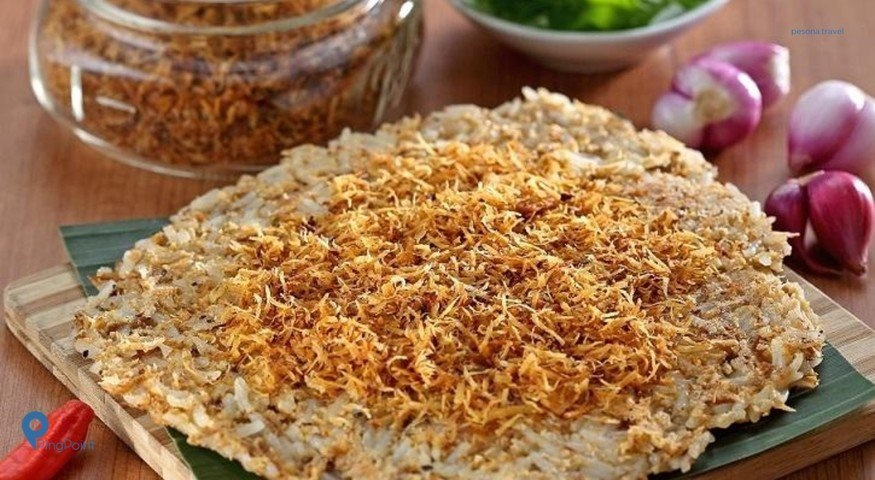kerak_telor: (115, 90, 802, 474)
